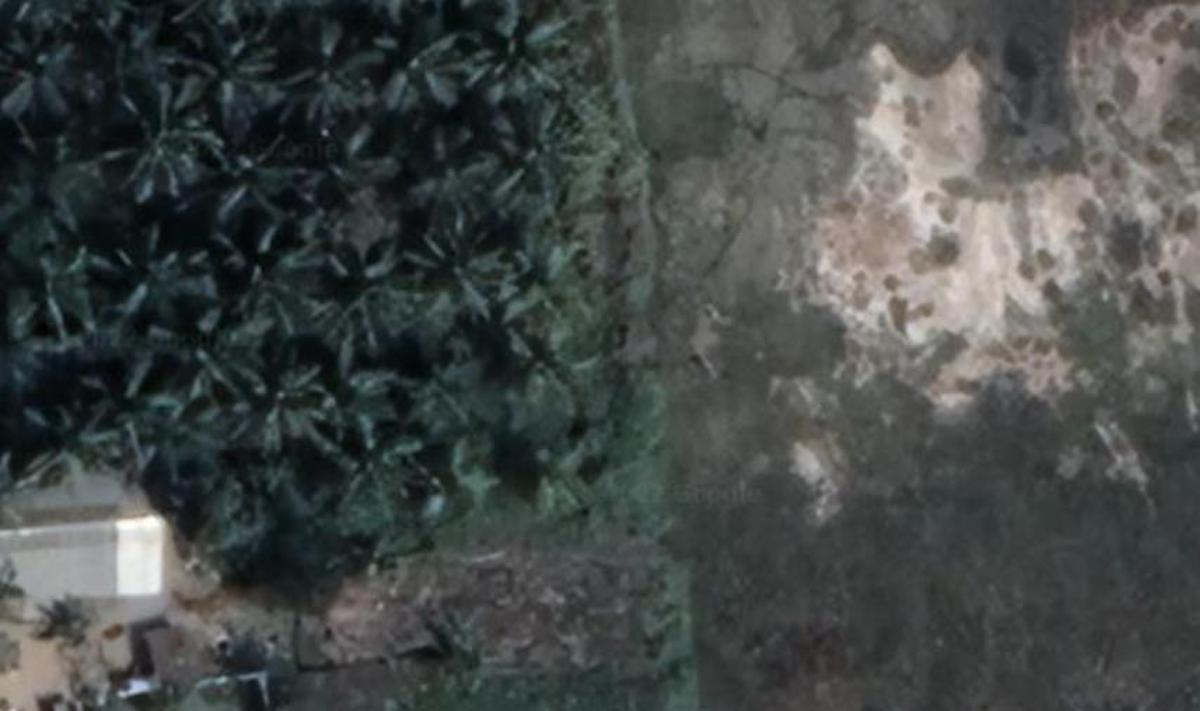coconut: (102, 74, 209, 196), (292, 227, 408, 331), (61, 341, 164, 456), (281, 8, 383, 120), (213, 337, 311, 451), (473, 101, 585, 199), (383, 8, 484, 116), (465, 0, 570, 102), (170, 22, 276, 120), (393, 119, 490, 223), (209, 125, 313, 220), (217, 219, 314, 317), (328, 415, 421, 517), (399, 207, 493, 304), (292, 125, 390, 216), (519, 422, 614, 515), (12, 229, 92, 330), (102, 233, 192, 321), (496, 321, 587, 406), (0, 147, 85, 238), (498, 229, 580, 321), (0, 22, 75, 118), (320, 338, 390, 432), (410, 335, 480, 422), (151, 366, 217, 436)
